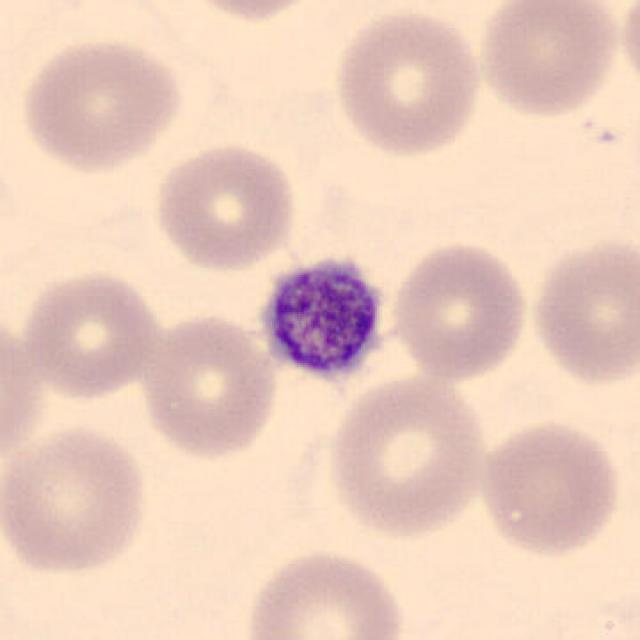Platelets: (249, 246, 395, 390)
RBC: (322, 370, 490, 542), (15, 32, 188, 175), (329, 6, 485, 160), (2, 422, 153, 578), (474, 414, 626, 561), (137, 308, 281, 462), (388, 236, 534, 384), (150, 138, 300, 275), (16, 266, 165, 402), (473, 0, 622, 122), (524, 231, 638, 390), (238, 545, 411, 640), (164, 0, 334, 25), (617, 2, 640, 100)
